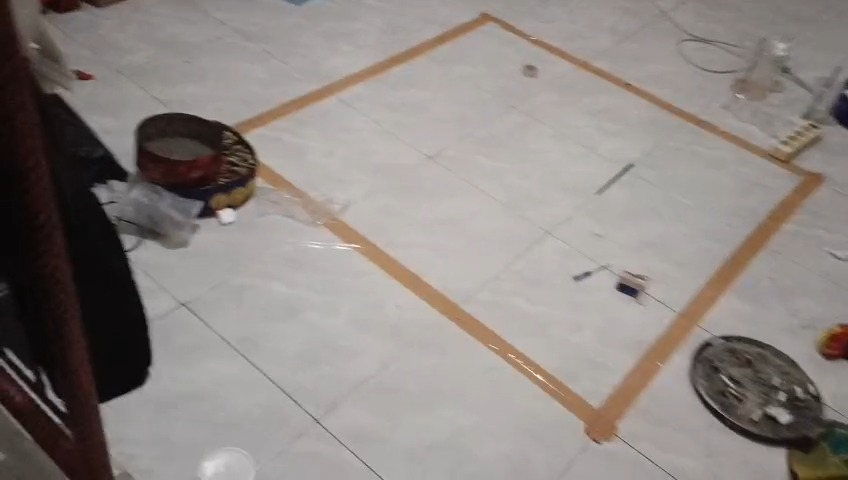floor marking: (236, 13, 823, 442), (258, 162, 316, 203)
